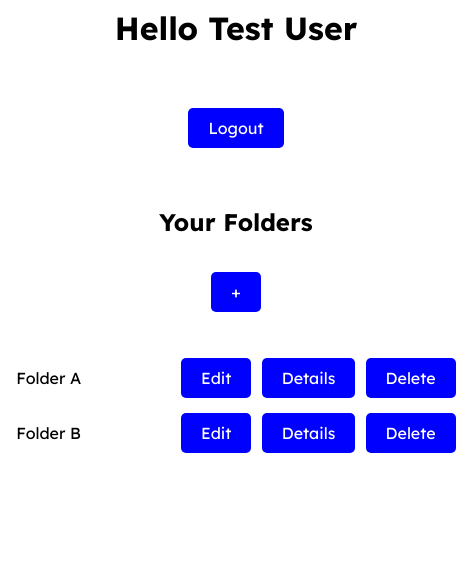
Test: User actions (logout, button clicks, navigation) › should display an error if folder deletion fails
The width and height of the screenshot is (474, 561).
expect the text "Folder A" is shown: met, box [16,368,81,388]
Click the button "Delete" in the row of "Folder A" at [411, 378], box [366,358,456,398]
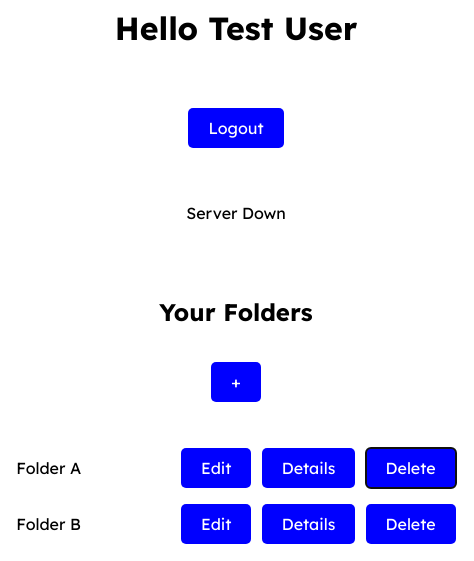
expect the text "Server Down" is shown: met, box [186,203,286,223]
